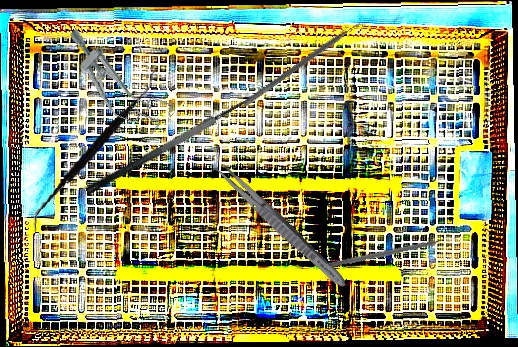Dressing Forceps: (208, 157, 351, 292)
Hook Surgical: (327, 235, 456, 270)
Spatula Surgical: (32, 57, 157, 246), (76, 77, 268, 197), (242, 16, 368, 112)
Speculum: (50, 20, 178, 145)
